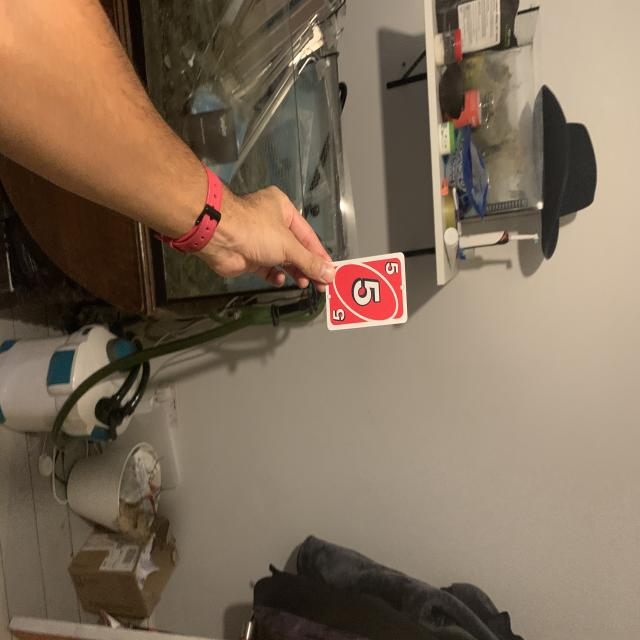lred-5: (382, 259, 401, 278)
